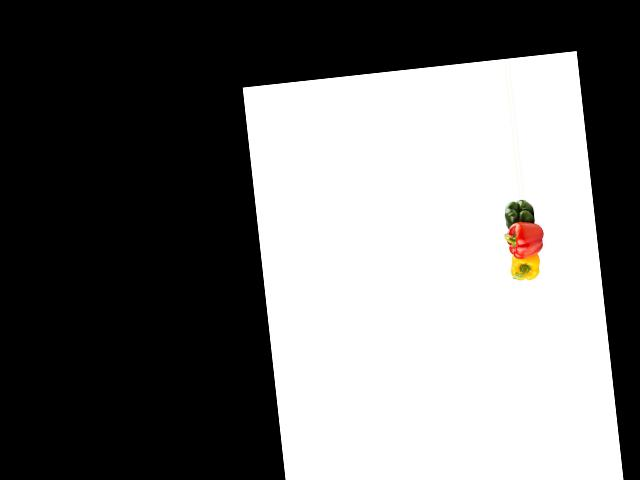bell_pepper: (506, 250, 547, 284)
